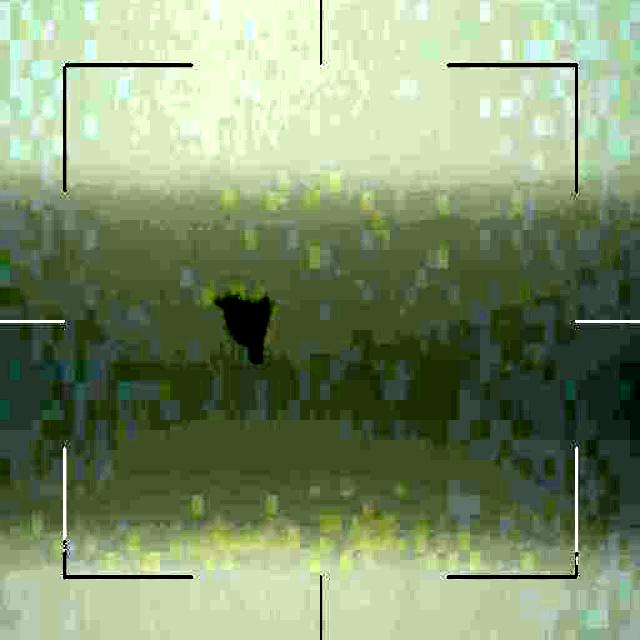bird: (225, 282, 284, 371)
